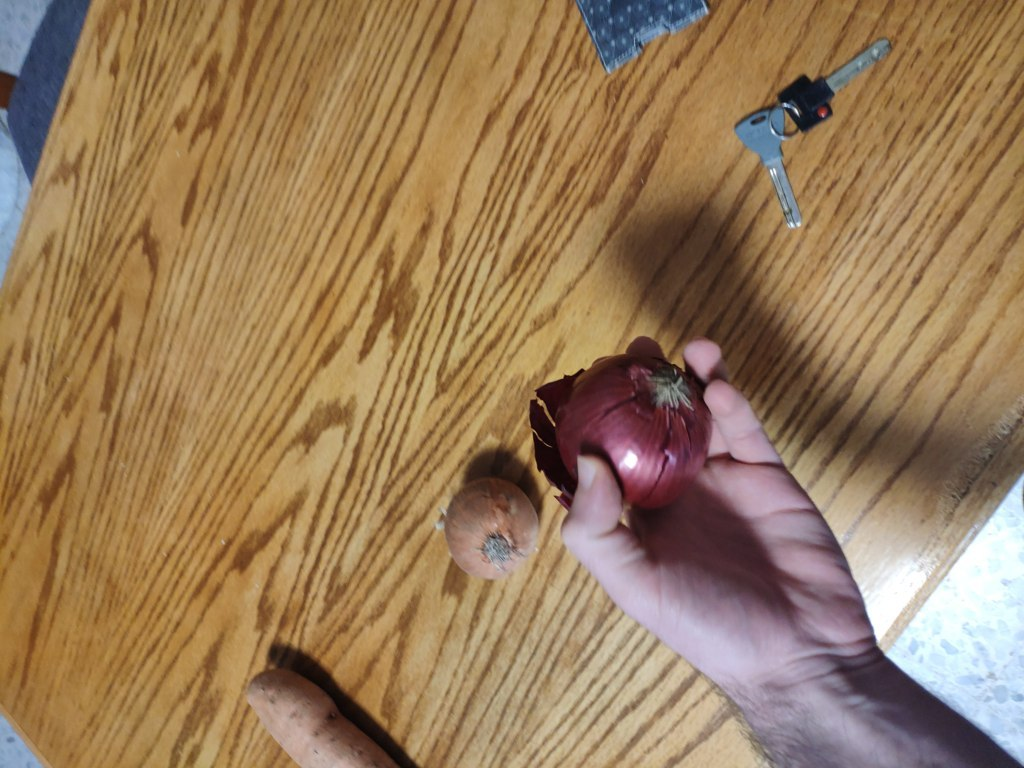Onion: (554, 359, 702, 510), (430, 475, 584, 578)
